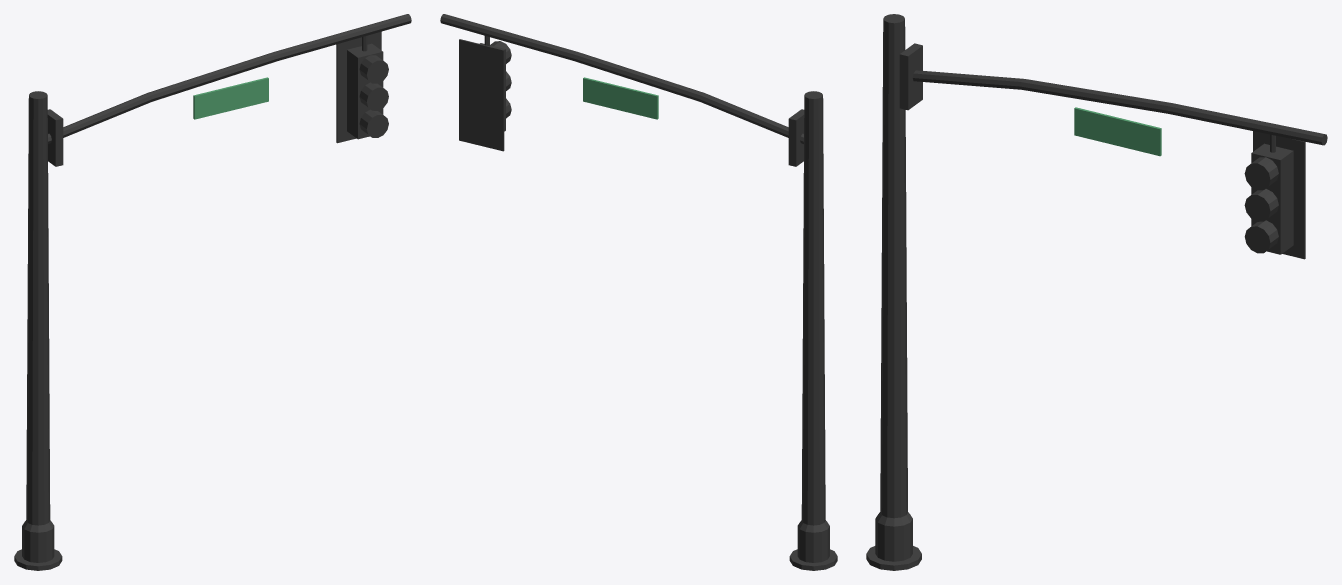
File: traffic_signal_mast.glb
3 renders of one model, left to right at view 1: azimuth 30°, elevation 25°; view 2: azimuth 150°, elevation 25°; view 3: azimuth 330°, elevation 25°, orthographic. The views are drawn at different scales.
Parts seen in each view (by area): view 1: traffic_signal_mast; view 2: traffic_signal_mast; view 3: traffic_signal_mast.
Boxes of the visible parts, box(x1,y1,x2,y2) form: traffic_signal_mast: box(14, 14, 411, 570); traffic_signal_mast: box(440, 14, 837, 570); traffic_signal_mast: box(866, 14, 1327, 570).
Bounding box in the file's own units: 5.28 × 6 × 0.59.
